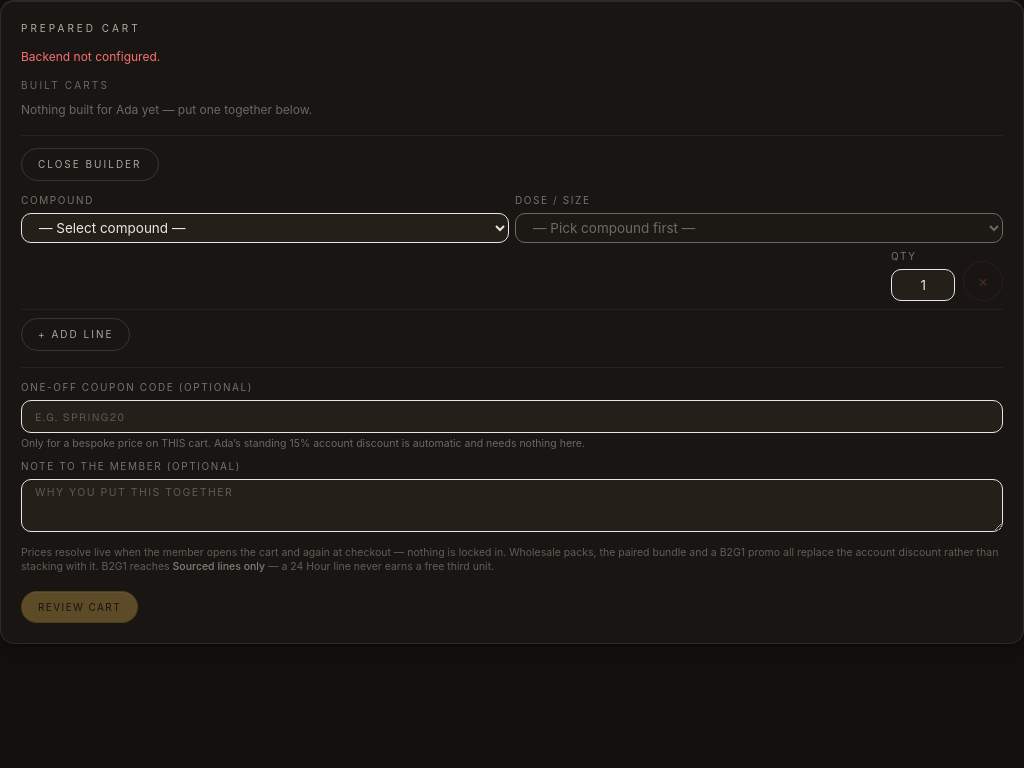
it: PreparedCartPanel — sending › the review button stays disabled until a dose is actually picked
Expected: the button "Review cart" is disabled, [21,591,138,623]
A compound alone is not a line — the dose is what makes it orderable.
Select "BPC-157 · mixed tiers" in the dropdown labelled "Compound" at x=265, y=228, box [21,213,509,243]
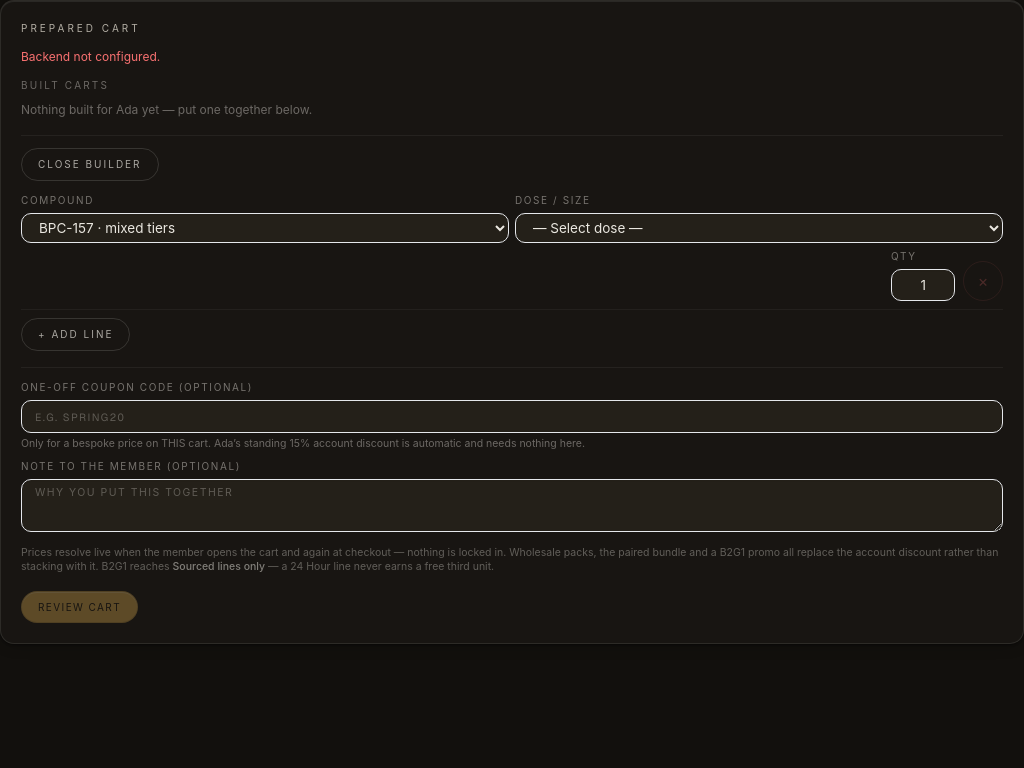
Expected: the button "Review cart" is disabled, [21,591,138,623]
Select "5mg · $60 · 24 Hour Shipping" in the dropdown labelled "Dose / size" at x=759, y=228, box [515,213,1003,243]
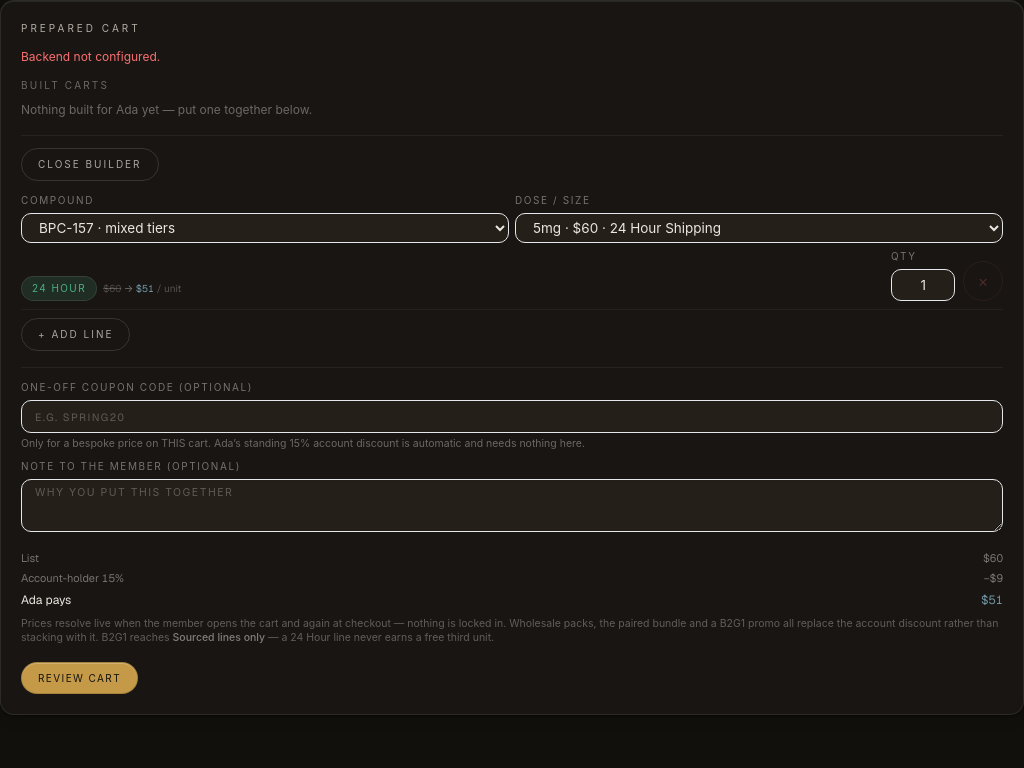
Result: the button "Review cart" is enabled at [21,662,138,694]
